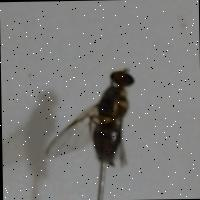Oriental-fruit-fly: (36, 36, 152, 182)
